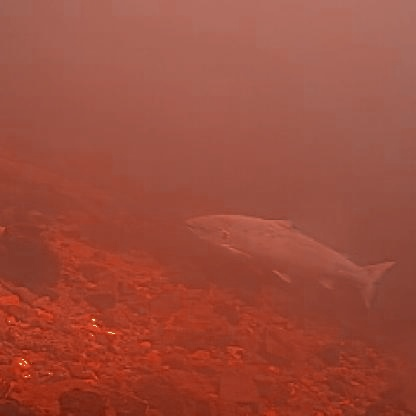salmon: (175, 206, 397, 309)
